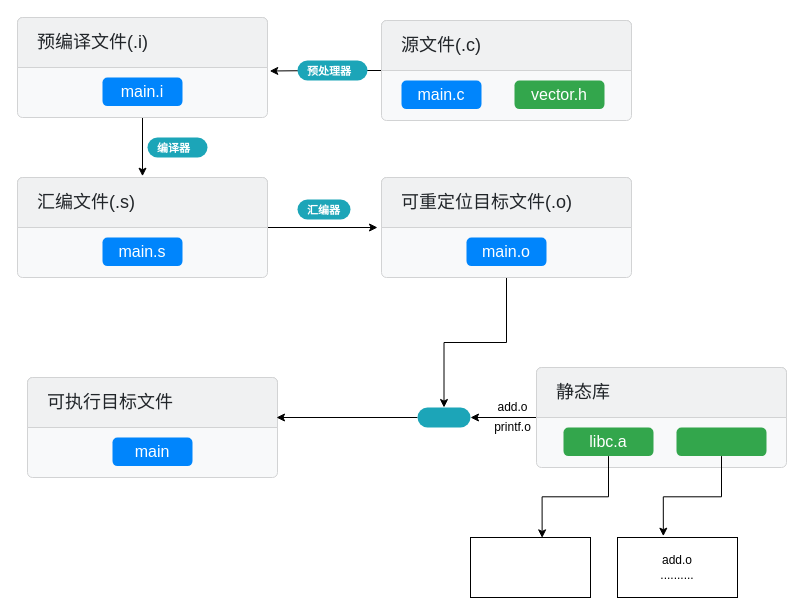
This 804x615 diagram has some shape labels left out. The shapes that lost their labels are listed below. From the top down, each one's centre as x and y in pixels, then its label:
At (x=443, y=417): "链接器".
At (x=721, y=441): "vector.a".
At (x=530, y=567): "printf.o ..........".
